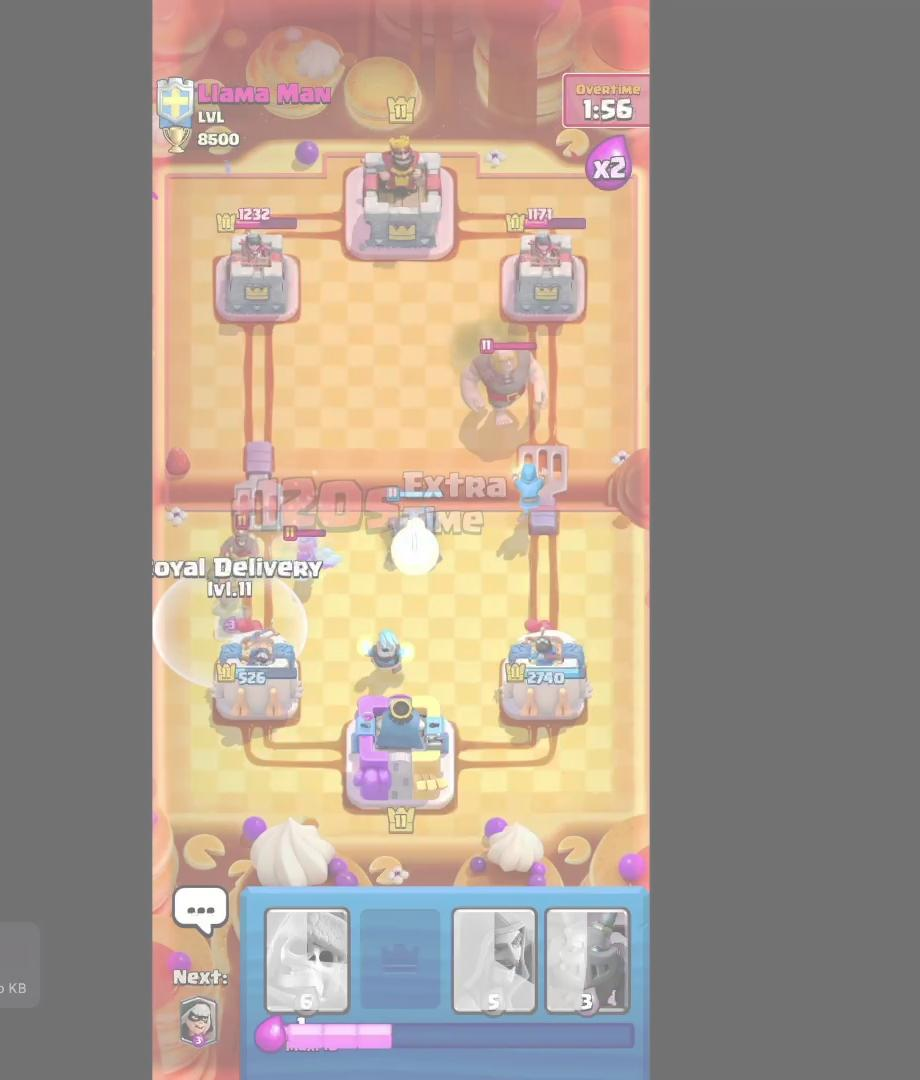Giant: (460, 338, 556, 433)
Hog Rider: (210, 519, 274, 584)
Valkyrie: (284, 522, 329, 582)
